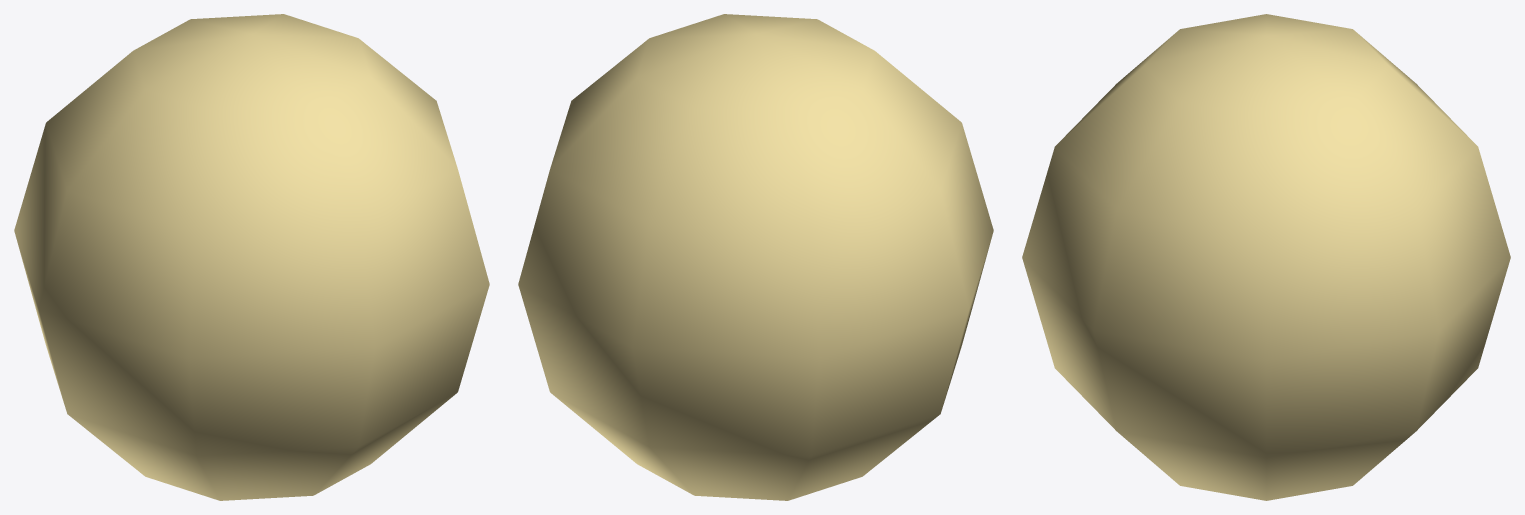
Rendered from papilla-choclo.glb.
3 renders of one model, left to right at view 1: azimuth 30°, elevation 25°; view 2: azimuth 150°, elevation 25°; view 3: azimuth 270°, elevation 25°, orthographic.
Visible parts, largest first — view 1: papilla; view 2: papilla; view 3: papilla.
Part boxes in pixels (left/top/right/bottom): papilla: left=14, top=14, right=489, bottom=500; papilla: left=518, top=14, right=993, bottom=500; papilla: left=1022, top=14, right=1510, bottom=500.
Bounding box in the file's own units: 2 × 2 × 2.
